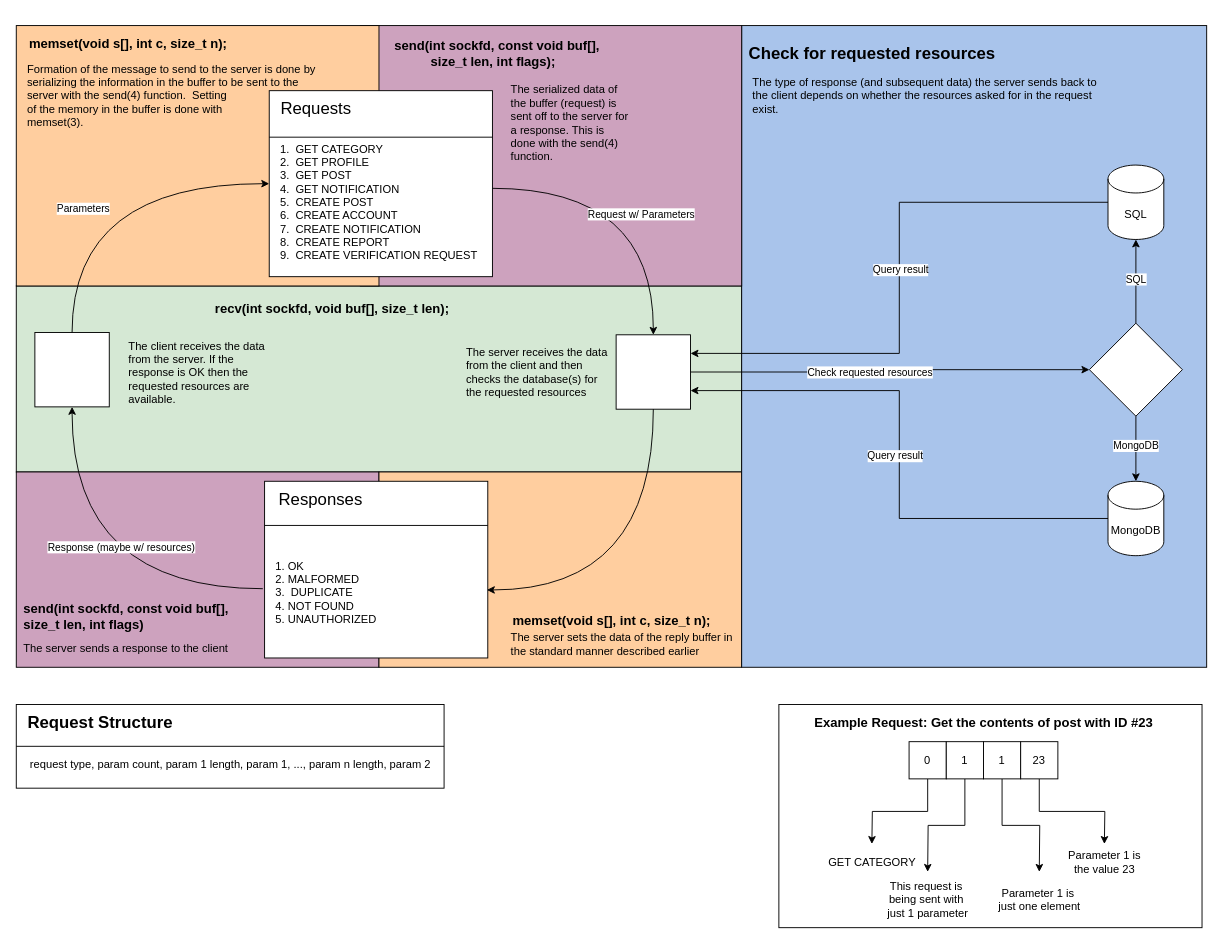
Some shapes in this 1223 by 944 pixel diagram are drawn without their labels. Each missing label, with the centre of its shape:
"Client" goes at pixel 71 369.
"Requested content in SQL or MongoDB?" goes at pixel 1135 369.
"Server" goes at pixel 653 371.
